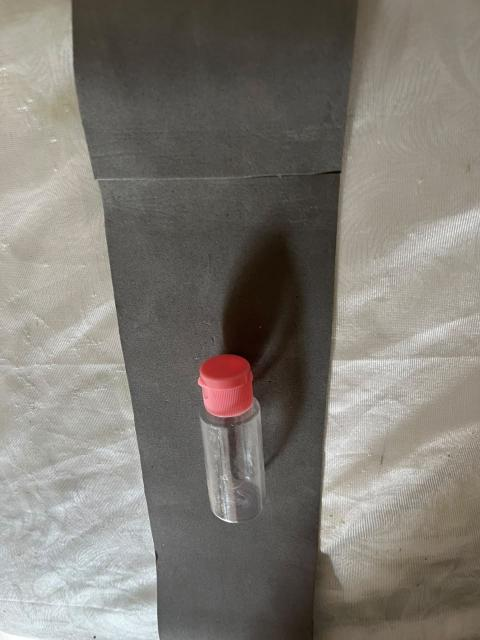PET: (105, 298, 363, 564)
